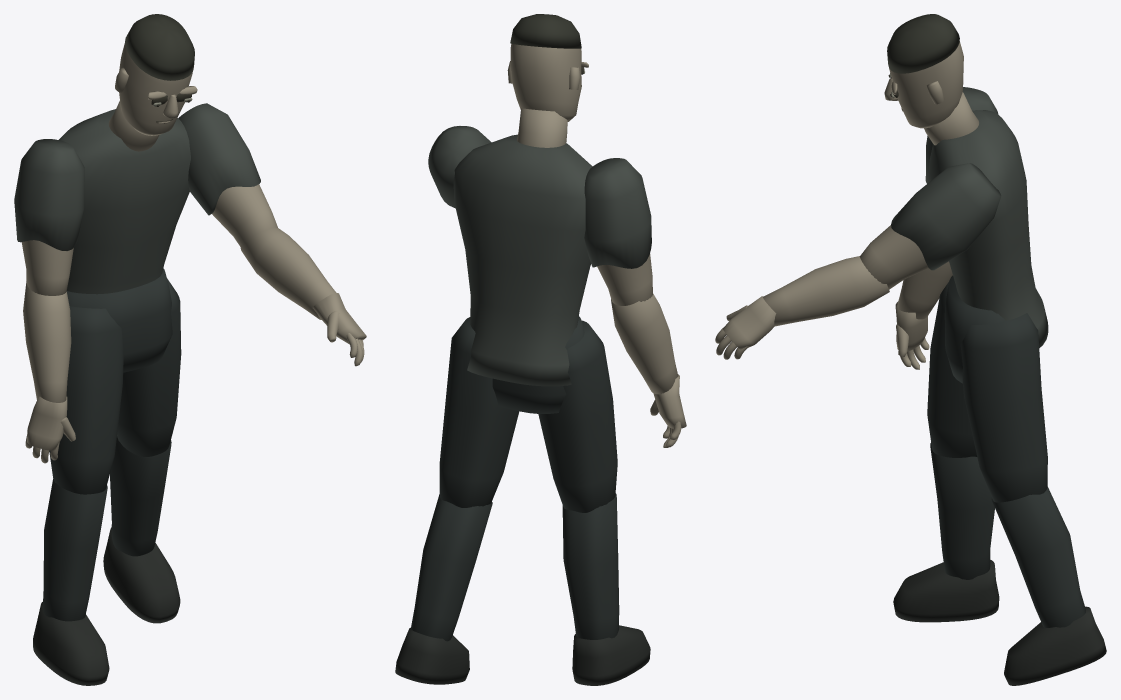
File: enemy-rasp.glb
The picture shows the model from 3 angles, left to right: view 1: azimuth 30°, elevation 25°; view 2: azimuth 150°, elevation 25°; view 3: azimuth 270°, elevation 25°; orthographic projection.
Visible parts, largest first — view 1: Chest, Trouser thigh_L, Trouser shin_L, Short sleeve_L, Trouser thigh_R, Short sleeve_R, Trouser shin_R, Waist, Forearm anatomy_L, Shoe_R, Forearm anatomy_R, Shoe_L (+7 smaller); view 2: Chest, Trouser thigh_L, Trouser thigh_R, Trouser shin_R, Trouser shin_L, Short sleeve_L, Anatomical head, Forearm anatomy_L, Shoe_L, Shoe_R, Short sleeve_R, Waist (+4 smaller); view 3: Trouser thigh_R, Chest, Trouser shin_R, Short sleeve_R, Trouser shin_L, Forearm anatomy_R, Shoe_L, Shoe_R, Trouser thigh_L, Anatomical head, Cropped hair, Upper arm_R (+6 smaller).
Part boxes in pixels (x1,y1,x2,y2): Chest: (59, 109, 190, 294); Trouser thigh_L: (49, 306, 123, 494); Trouser shin_L: (42, 479, 107, 621); Short sleeve_L: (14, 139, 84, 250); Trouser thigh_R: (117, 278, 181, 456); Short sleeve_R: (178, 103, 260, 215); Trouser shin_R: (110, 436, 171, 556); Waist: (66, 268, 172, 372); Forearm anatomy_L: (23, 281, 71, 402); Shoe_R: (103, 527, 180, 623); Forearm anatomy_R: (240, 227, 336, 319); Shoe_L: (33, 602, 109, 685); Chest: (453, 134, 592, 386); Trouser thigh_L: (538, 320, 617, 512); Trouser thigh_R: (439, 317, 519, 507); Trouser shin_R: (411, 494, 492, 641); Trouser shin_L: (562, 493, 619, 639); Short sleeve_L: (584, 158, 651, 268); Anatomical head: (510, 44, 581, 121); Forearm anatomy_L: (611, 293, 678, 394); Shoe_L: (572, 625, 650, 685); Shoe_R: (395, 627, 469, 684); Short sleeve_R: (428, 126, 491, 208); Waist: (492, 316, 584, 413); Trouser thigh_R: (960, 313, 1047, 502); Chest: (929, 110, 1048, 347); Trouser shin_R: (991, 487, 1085, 627); Short sleeve_R: (891, 163, 1001, 270); Trouser shin_L: (930, 442, 994, 579); Forearm anatomy_R: (763, 256, 889, 326); Shoe_L: (893, 560, 999, 622); Shoe_R: (1004, 606, 1106, 685); Trouser thigh_L: (927, 282, 977, 457); Anatomical head: (889, 41, 963, 128); Cropped hair: (887, 14, 959, 73); Upper arm_R: (860, 225, 928, 289).
Bounding box in the file's own units: 0.6726 × 1.66 × 0.9214.
